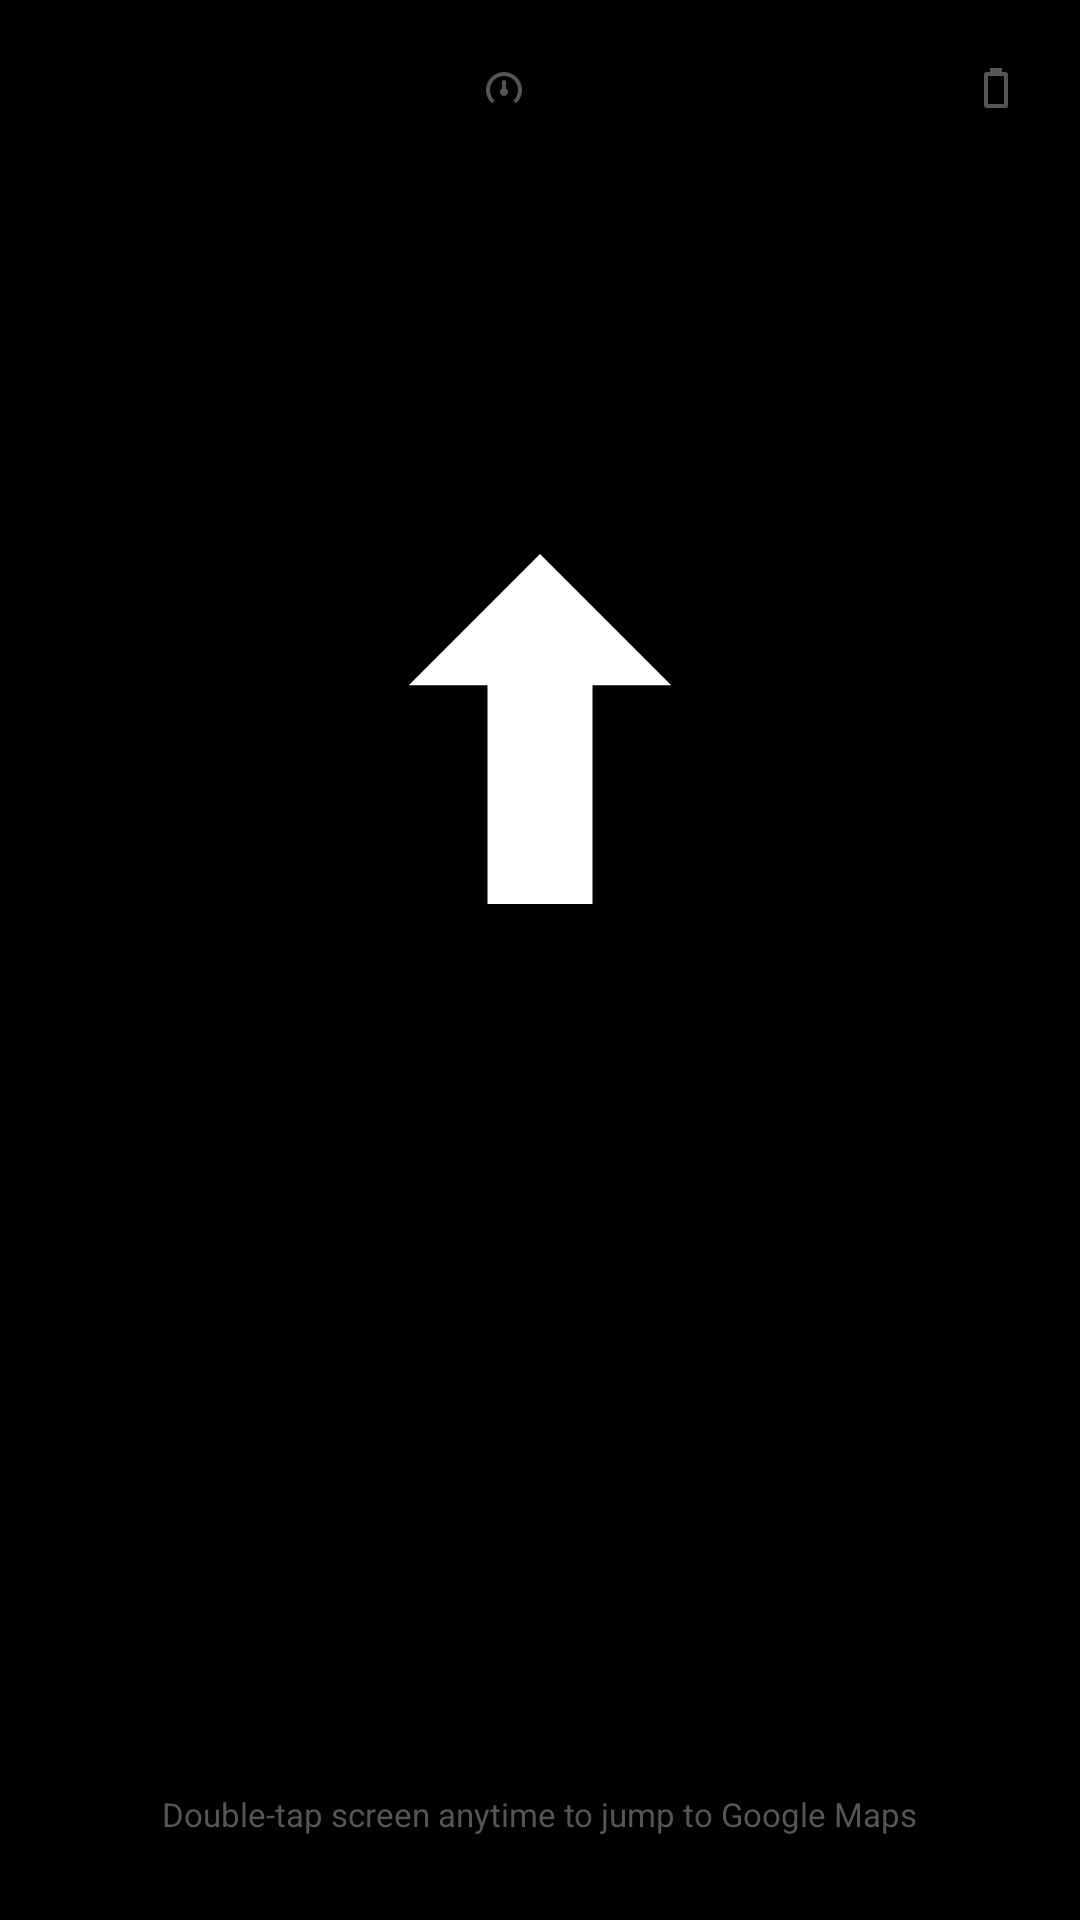

Screen size 1080×1920. Icon name, then its center in pixels as [x,y]:
battery: [996,88]
Maneuver Arrow: [540,729]
speedometer: [504,87]
